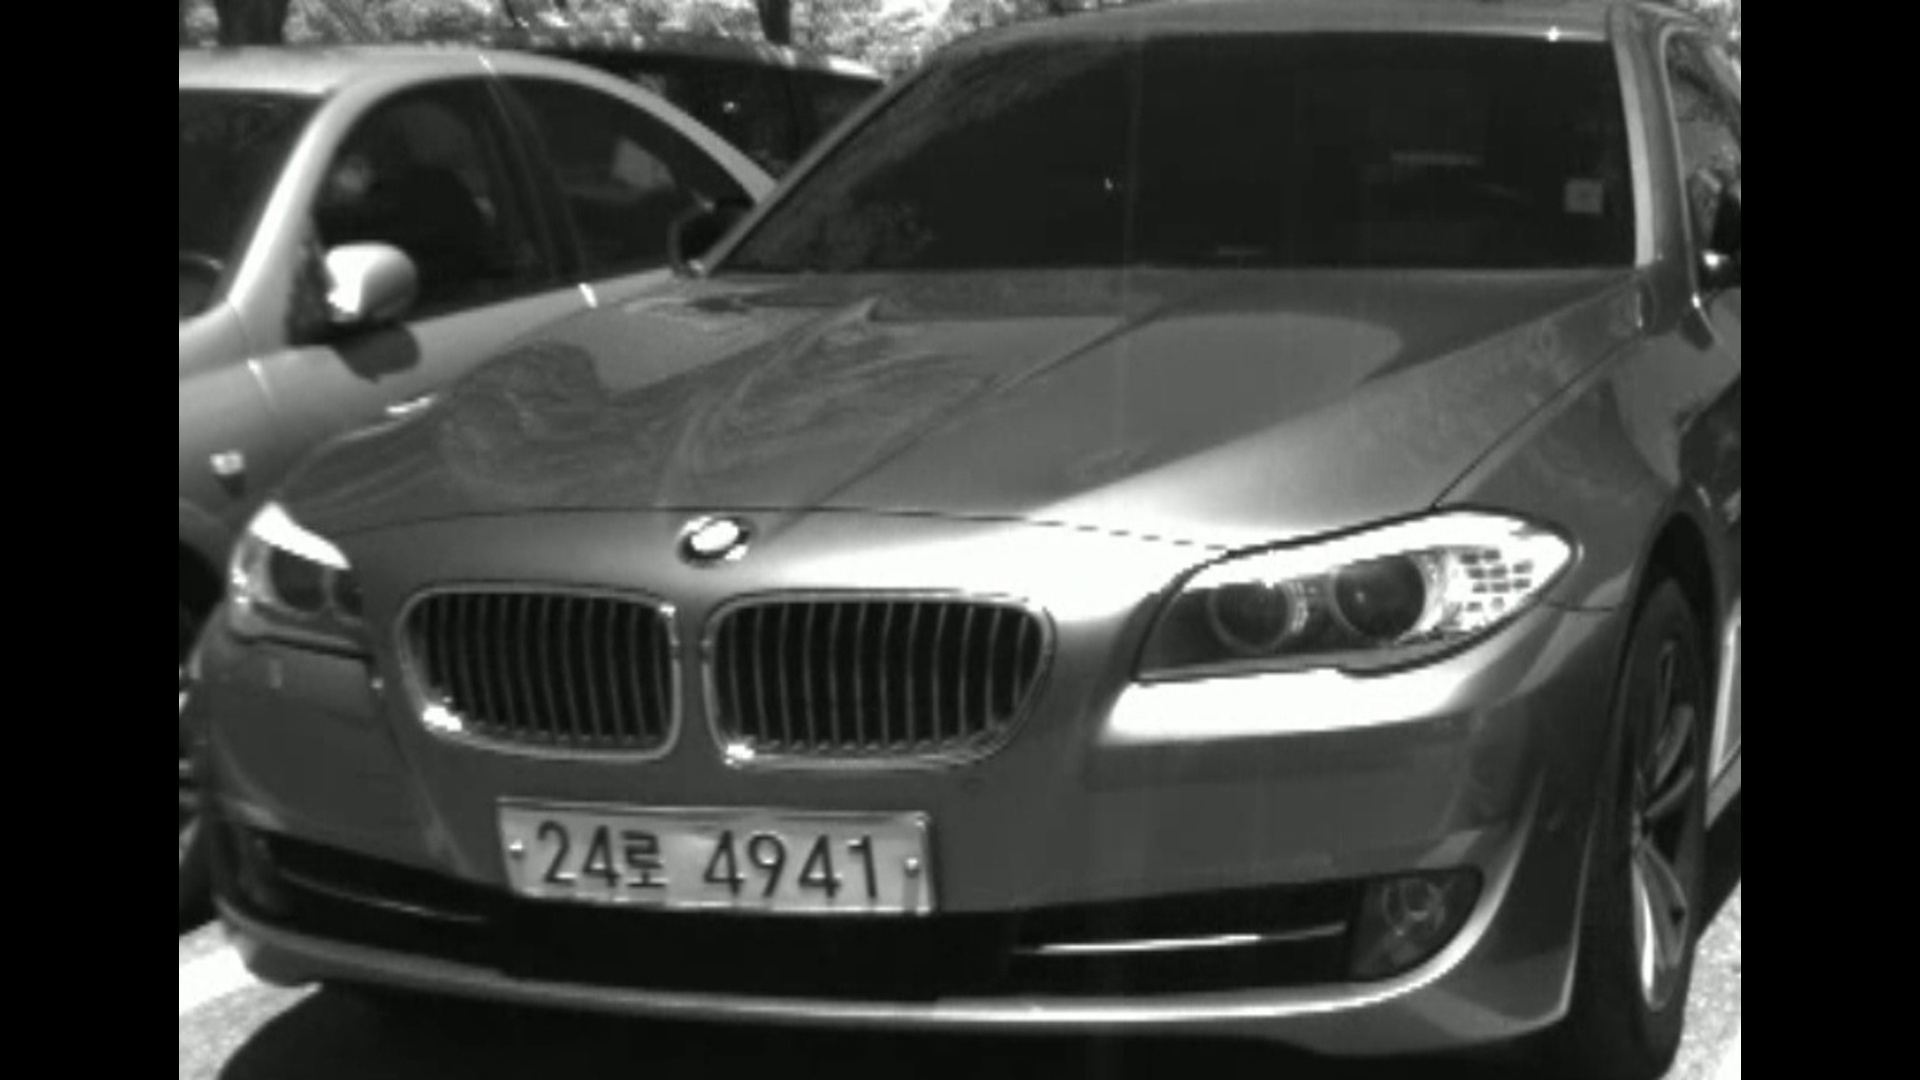license_plate: (489, 788, 942, 926)
